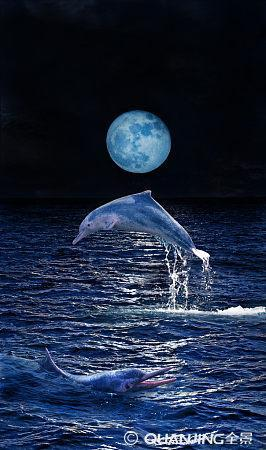fish: (63, 188, 216, 274), (20, 346, 184, 395)
